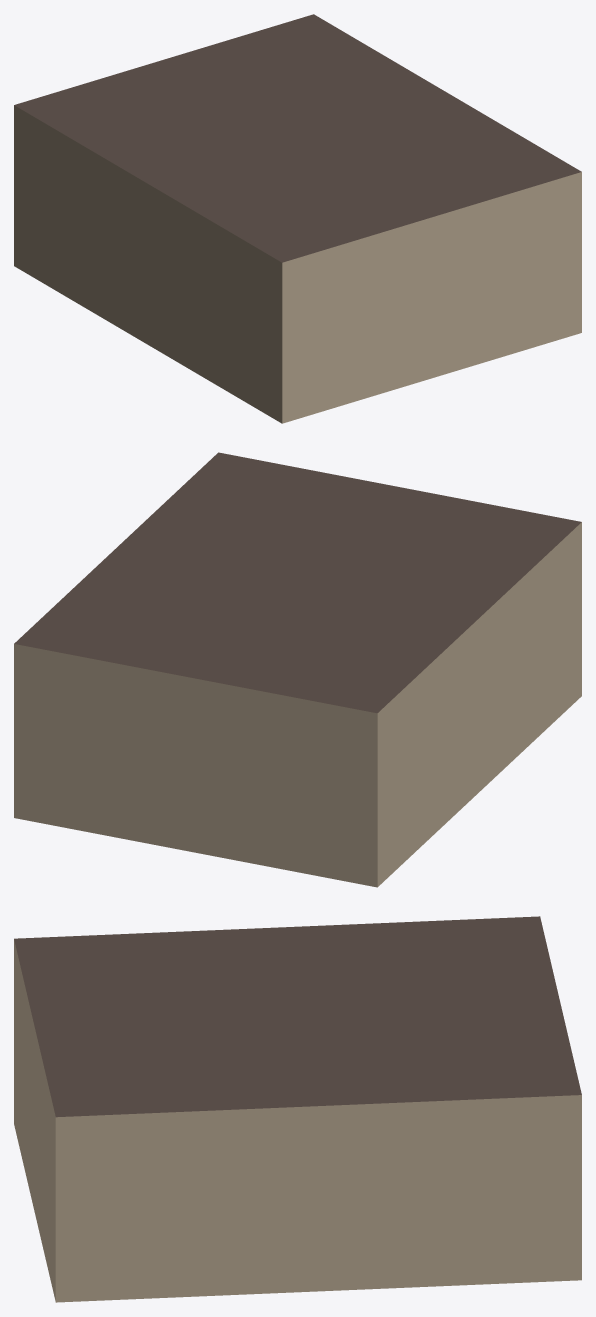
The picture shows the model from 3 angles, top to bottom: view 1: azimuth 30°, elevation 25°; view 2: azimuth 150°, elevation 25°; view 3: azimuth 270°, elevation 25°; orthographic projection. The views are drawn at different scales.
Visible parts, largest first — view 1: HP-w449058936; view 2: HP-w449058936; view 3: HP-w449058936.
Part boxes in pixels (x1=…): HP-w449058936: x1=14, y1=14, x2=581, y2=423; HP-w449058936: x1=14, y1=452, x2=581, y2=887; HP-w449058936: x1=14, y1=916, x2=581, y2=1302.
Bounding box in the file's own units: 20.92 × 9 × 25.
